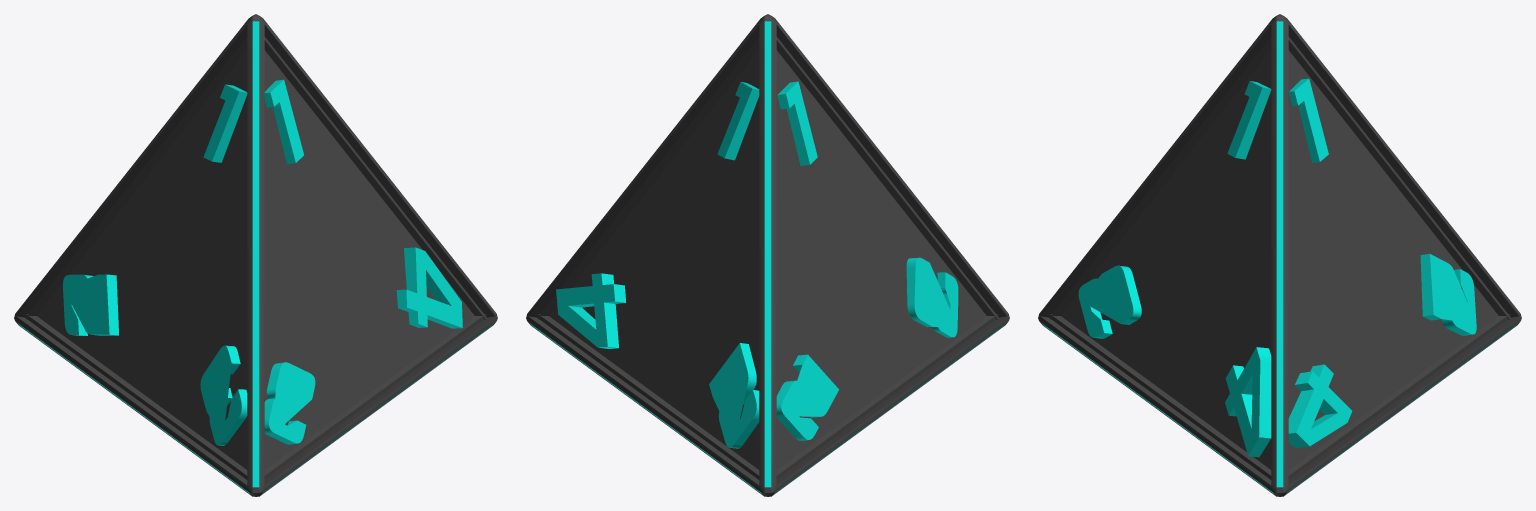
Rendered from D4_dice_final.fbx.
3 renders of one model, left to right at view 1: azimuth 30°, elevation 25°; view 2: azimuth 150°, elevation 25°; view 3: azimuth 270°, elevation 25°, orthographic.
Visible parts, largest first — view 1: d4Base, numbers, D4EmissiveEdges; view 2: d4Base, numbers, D4EmissiveEdges; view 3: d4Base, numbers, D4EmissiveEdges.
Part boxes in pixels (bbox=[...]): d4Base: bbox=[14, 14, 497, 496]; numbers: bbox=[63, 79, 462, 445]; D4EmissiveEdges: bbox=[18, 21, 493, 493]; d4Base: bbox=[526, 14, 1009, 496]; numbers: bbox=[556, 81, 958, 448]; D4EmissiveEdges: bbox=[530, 21, 1005, 493]; d4Base: bbox=[1038, 14, 1521, 496]; numbers: bbox=[1078, 78, 1476, 457]; D4EmissiveEdges: bbox=[1042, 21, 1517, 493].
Bounding box in the file's own units: 9.05 × 8.79 × 10.41.
